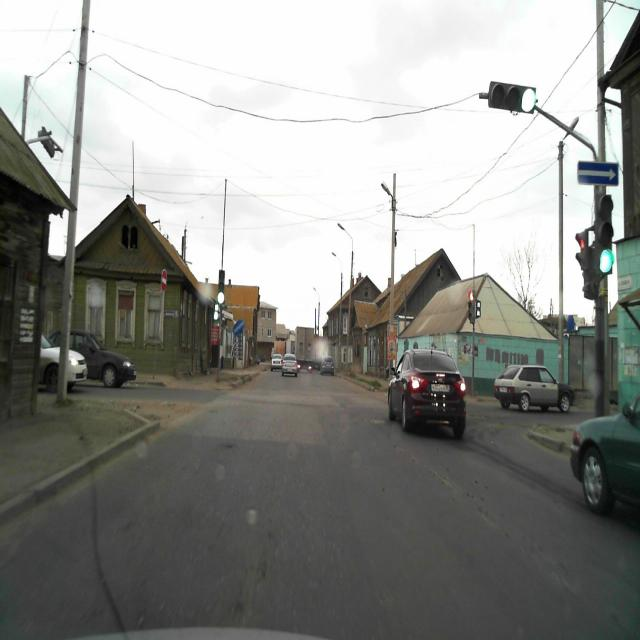road sign: (577, 159, 619, 186)
